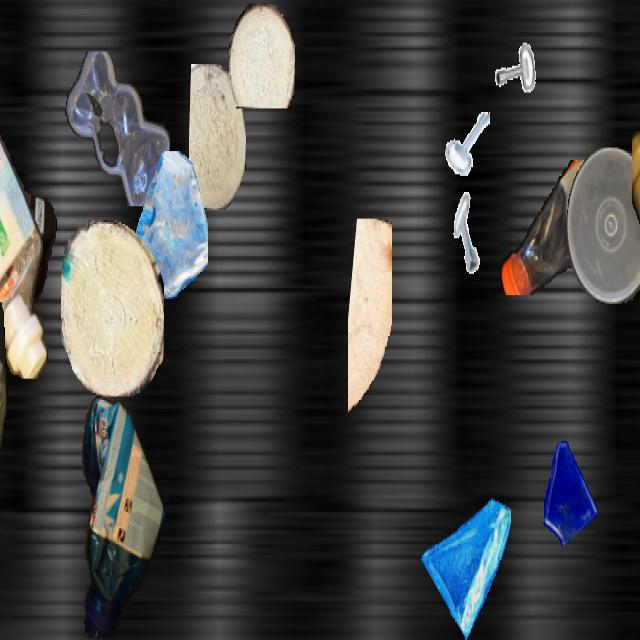glass: (420, 478, 510, 638), (125, 151, 207, 297), (538, 436, 600, 546)
metal: (483, 4, 539, 103), (446, 192, 492, 274), (445, 105, 489, 183)
plastic: (76, 393, 164, 638), (498, 160, 640, 295), (65, 52, 171, 205), (0, 71, 50, 377), (0, 197, 57, 439), (567, 148, 640, 304), (632, 117, 640, 491), (0, 302, 8, 519)
wood: (61, 220, 163, 394), (348, 219, 392, 425), (189, 64, 245, 210), (229, 3, 295, 106)
